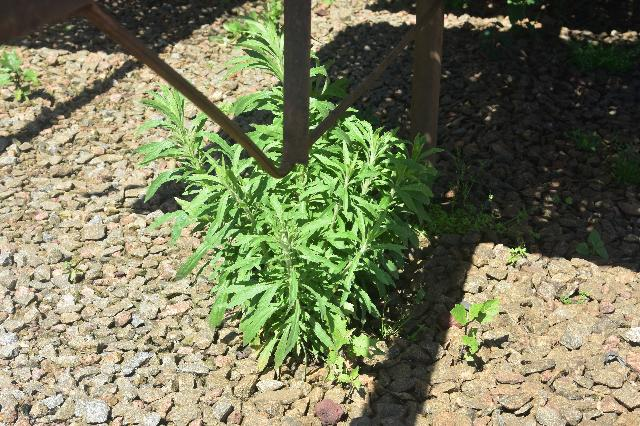MalezaMontesDelPlata: (203, 188, 372, 370), (293, 127, 437, 291), (133, 79, 230, 235), (405, 153, 535, 253), (216, 7, 282, 151), (437, 293, 514, 366), (564, 125, 640, 192), (564, 34, 640, 73), (0, 48, 43, 102), (569, 225, 617, 264)
